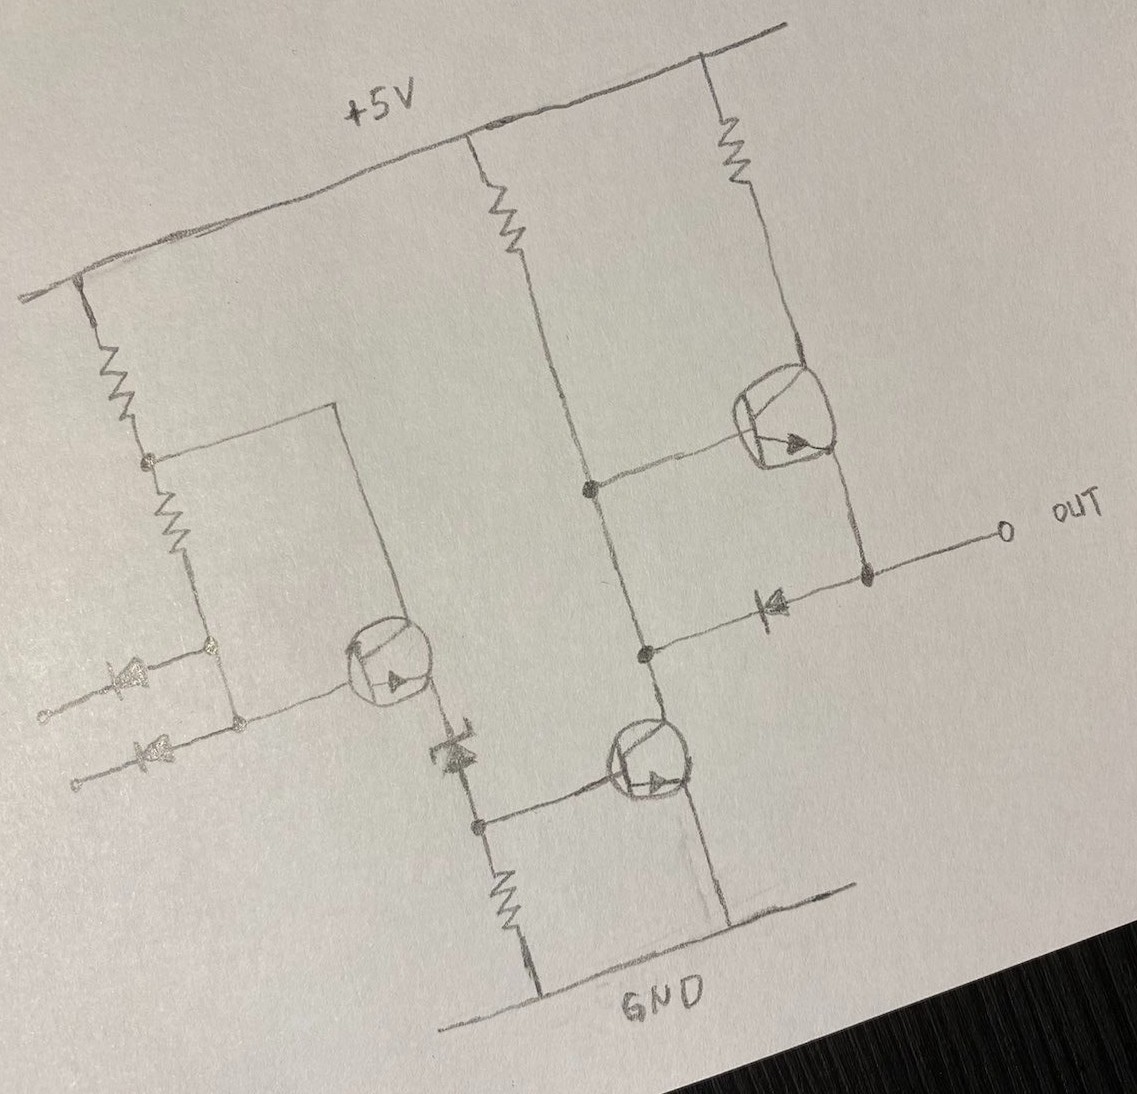diode: (415, 717, 486, 781), (126, 728, 185, 787), (746, 579, 798, 639), (96, 652, 155, 703)
junction: (624, 632, 677, 674), (458, 806, 504, 846), (574, 464, 607, 507), (851, 558, 888, 596), (192, 628, 229, 666), (453, 117, 485, 156), (58, 257, 92, 293), (686, 35, 721, 71), (520, 980, 557, 1014), (221, 708, 257, 742), (132, 446, 170, 476), (320, 387, 349, 423), (712, 909, 743, 940)
resistor: (90, 334, 140, 426), (478, 177, 530, 262), (148, 487, 196, 562), (714, 108, 757, 189), (486, 866, 528, 936)
terminal: (982, 503, 1028, 559), (56, 764, 102, 806), (4, 281, 51, 322), (755, 10, 807, 45), (423, 1010, 467, 1050), (21, 693, 62, 734), (834, 866, 875, 900)
text: (338, 73, 429, 132), (621, 974, 710, 1028), (1049, 482, 1105, 531)
transistor: (731, 361, 844, 479), (344, 608, 439, 711), (600, 713, 698, 809)
